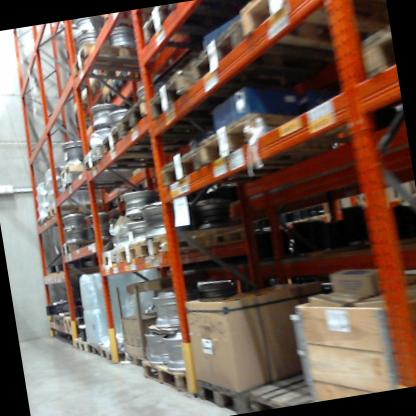pallet: (178, 12, 336, 110), (193, 94, 359, 181), (237, 0, 389, 61), (143, 58, 260, 136), (133, 208, 276, 271), (154, 134, 283, 197), (90, 110, 209, 172), (134, 0, 232, 59), (67, 35, 150, 99), (111, 89, 192, 151), (74, 136, 162, 184), (244, 365, 328, 409), (355, 18, 399, 94), (189, 364, 252, 416), (141, 355, 192, 404), (44, 196, 112, 228), (55, 156, 103, 185), (113, 234, 144, 272), (60, 233, 101, 260), (99, 337, 122, 365), (96, 244, 119, 270), (46, 310, 71, 331), (88, 338, 108, 364), (61, 314, 88, 331), (70, 336, 92, 356)
